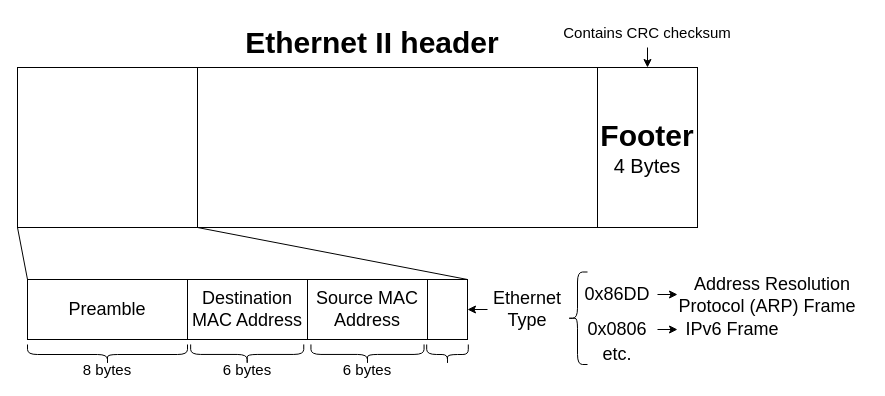
Image size: 885x396. Some labels were removed from this diagram. Each missing label, with the centre of its shape:
"1 byte" goes at (447,354).
"Header 24 Bytes" goes at (107,147).
"Payload 46 - 1500 Bytes" goes at (397,147).
